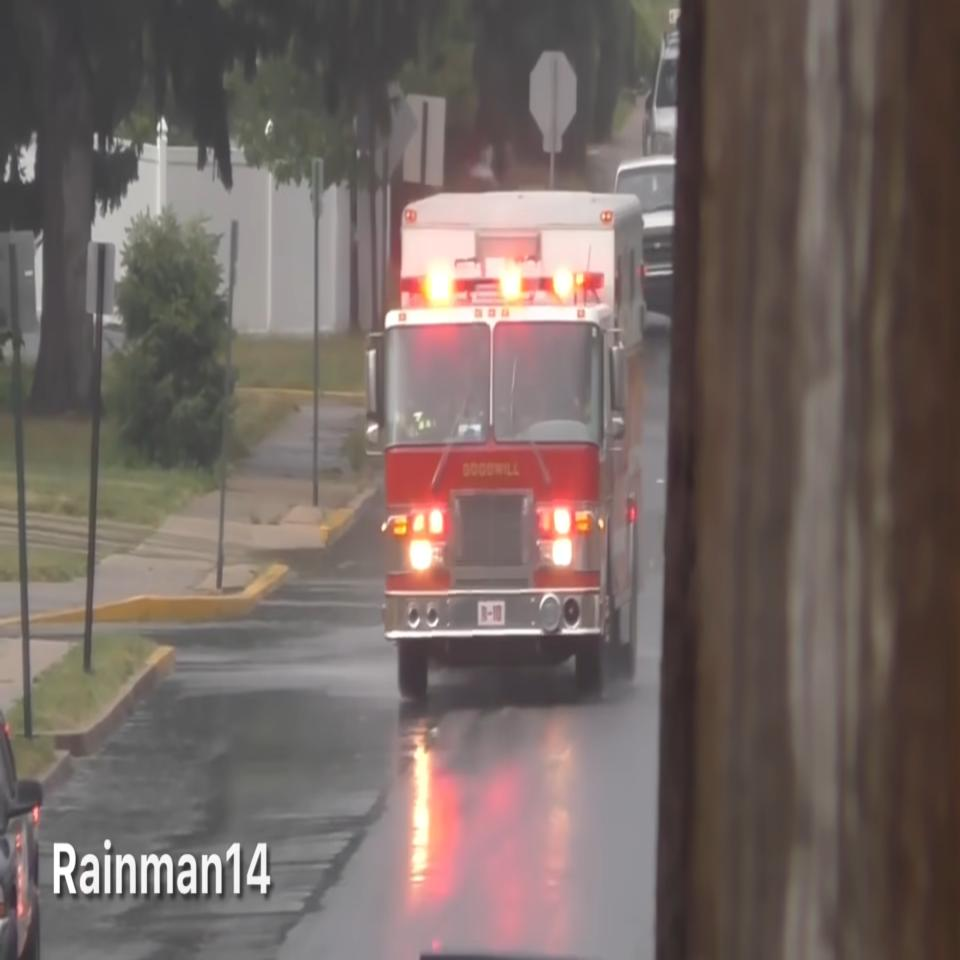viatura: (368, 192, 652, 695)
